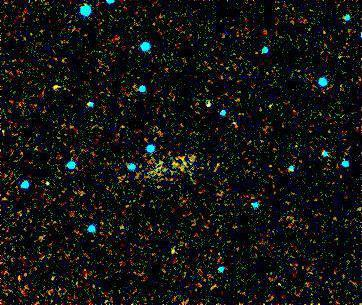star: (141, 172, 171, 202)
